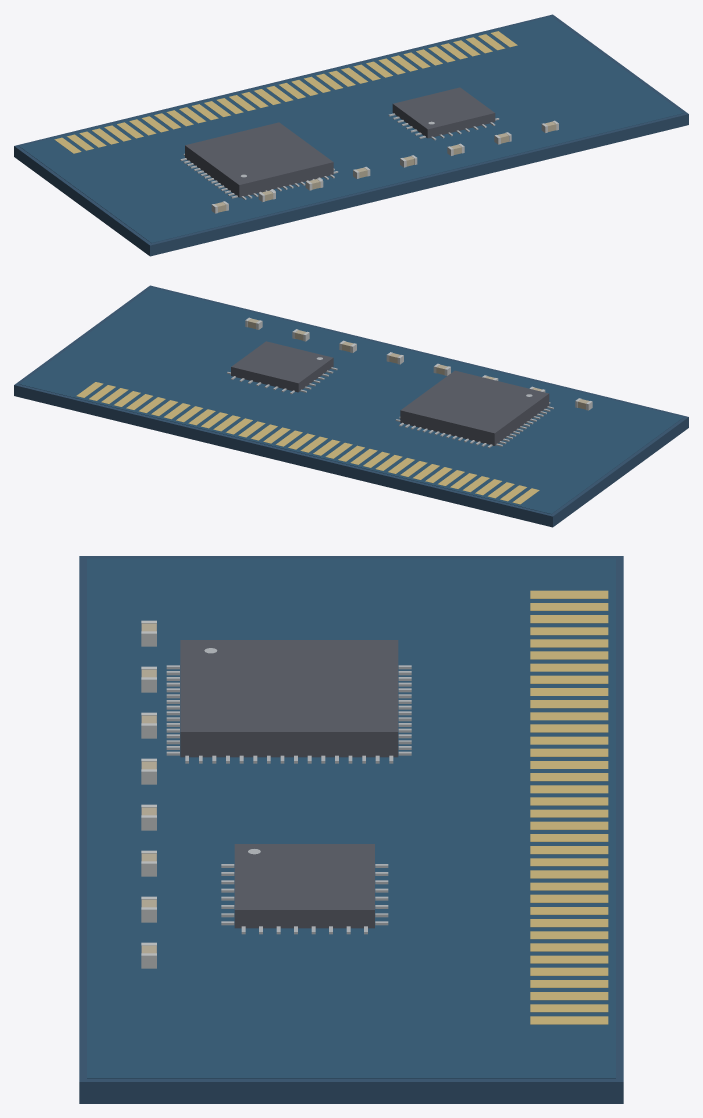
The model's file is 110_L105_ECX4_RemovableCard.glb.
The picture shows the model from 3 angles, top to bottom: view 1: azimuth 30°, elevation 25°; view 2: azimuth 150°, elevation 25°; view 3: azimuth 270°, elevation 25°; orthographic projection. The views are drawn at different scales.
Visible parts, largest first — view 1: ECX4_RemovableCard_mask_1, ECX4_RemovableCard_pcb_0, ECX4_RemovableCard_chip_3, ECX4_RemovableCard_gold_2, ECX4_RemovableCard_silver_4, ECX4_RemovableCard_tin_6, ECX4_RemovableCard_ceramic_5; view 2: ECX4_RemovableCard_mask_1, ECX4_RemovableCard_pcb_0, ECX4_RemovableCard_chip_3, ECX4_RemovableCard_gold_2, ECX4_RemovableCard_silver_4, ECX4_RemovableCard_tin_6, ECX4_RemovableCard_ceramic_5; view 3: ECX4_RemovableCard_mask_1, ECX4_RemovableCard_chip_3, ECX4_RemovableCard_gold_2, ECX4_RemovableCard_pcb_0, ECX4_RemovableCard_silver_4, ECX4_RemovableCard_tin_6, ECX4_RemovableCard_ceramic_5.
Boxes of the visible parts, box(x1,y1,x2,y2) form: ECX4_RemovableCard_mask_1: box(19, 16, 683, 243); ECX4_RemovableCard_pcb_0: box(14, 14, 688, 256); ECX4_RemovableCard_chip_3: box(185, 87, 495, 197); ECX4_RemovableCard_gold_2: box(54, 31, 517, 153); ECX4_RemovableCard_silver_4: box(180, 113, 499, 199); ECX4_RemovableCard_tin_6: box(211, 120, 558, 213); ECX4_RemovableCard_ceramic_5: box(215, 121, 556, 212); ECX4_RemovableCard_mask_1: box(19, 287, 683, 514); ECX4_RemovableCard_pcb_0: box(14, 285, 688, 527); ECX4_RemovableCard_chip_3: box(231, 341, 549, 445); ECX4_RemovableCard_gold_2: box(76, 382, 539, 504); ECX4_RemovableCard_silver_4: box(227, 357, 553, 447); ECX4_RemovableCard_tin_6: box(245, 317, 592, 410); ECX4_RemovableCard_ceramic_5: box(248, 318, 589, 409); ECX4_RemovableCard_mask_1: box(87, 558, 615, 1078); ECX4_RemovableCard_chip_3: box(180, 640, 398, 928); ECX4_RemovableCard_gold_2: box(530, 590, 608, 1024); ECX4_RemovableCard_pcb_0: box(79, 556, 623, 1103); ECX4_RemovableCard_silver_4: box(166, 648, 411, 934); ECX4_RemovableCard_tin_6: box(141, 620, 156, 968); ECX4_RemovableCard_ceramic_5: box(142, 623, 156, 953).
Bounding box in the file's own units: 0.08 × 0.00368 × 0.035.
